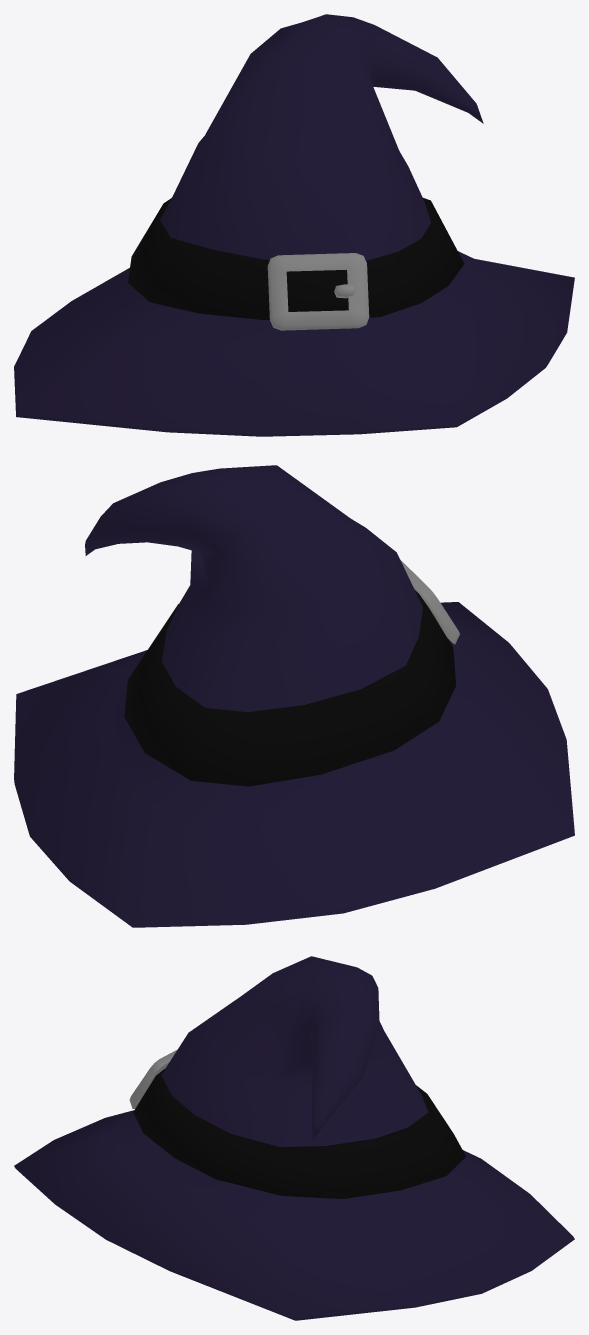
The model's file is accessory-witch_hat.glb.
3 renders of one model, top to bottom at view 1: azimuth 30°, elevation 25°; view 2: azimuth 150°, elevation 25°; view 3: azimuth 270°, elevation 25°, orthographic. The views are drawn at different scales.
Parts seen in each view (by area): view 1: accessory__witchHat__0; view 2: accessory__witchHat__0; view 3: accessory__witchHat__0.
Part boxes in pixels (box(x1,y1,x2,y2)): accessory__witchHat__0: box(14, 14, 574, 436); accessory__witchHat__0: box(14, 465, 574, 927); accessory__witchHat__0: box(14, 956, 574, 1320).
Bounding box in the file's own units: 1.12 × 0.6451 × 1.13.
